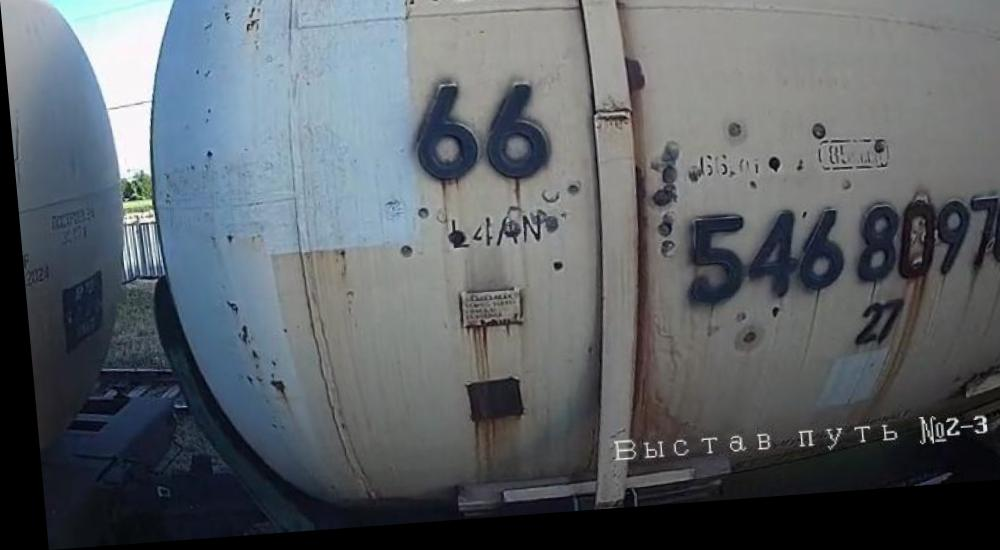Wagon-number: (672, 204, 1000, 319)
